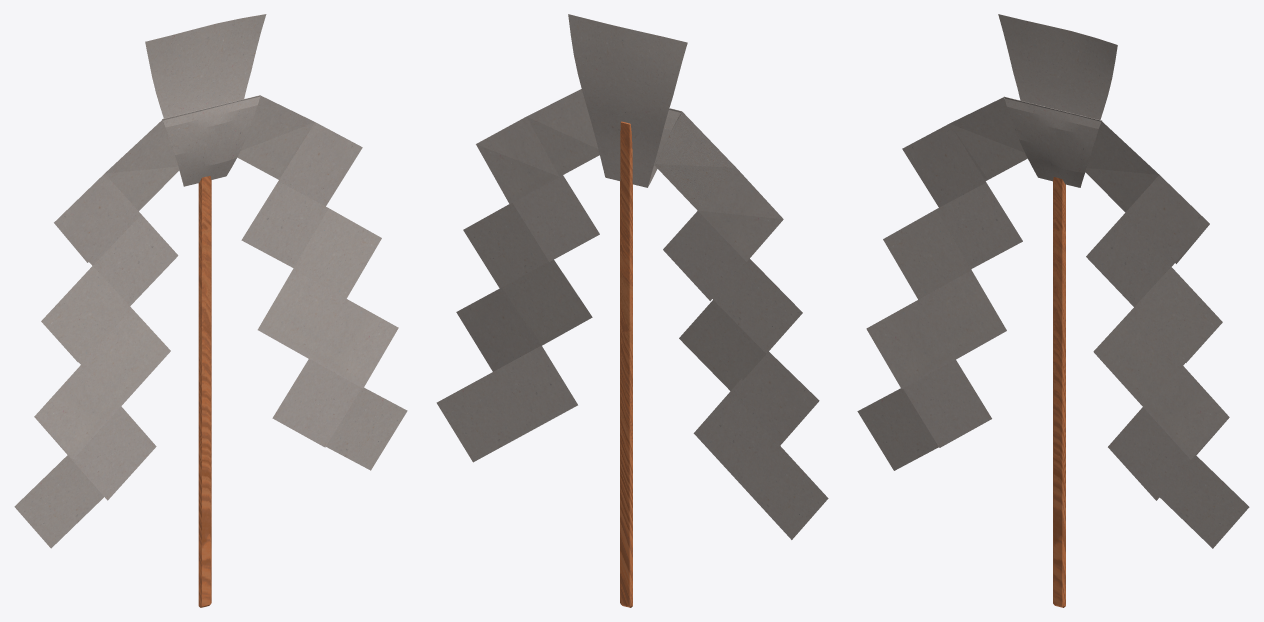
File: gohei_model_draft_1.glb
3 renders of one model, left to right at view 1: azimuth 30°, elevation 25°; view 2: azimuth 150°, elevation 25°; view 3: azimuth 330°, elevation 25°, orthographic.
Parts seen in each view (by area): view 1: Plane.003, Plane.002, Cube, Plane; view 2: Plane.003, Plane.002, Cube; view 3: Plane.003, Plane.002, Cube, Plane.
Boxes of the visible parts, <box> form: Plane.003: <box>14,96,407,548</box>; Plane.002: <box>145,14,266,185</box>; Cube: <box>198,176,211,607</box>; Plane: <box>162,95,259,186</box>; Plane.003: <box>436,89,828,539</box>; Plane.002: <box>568,14,687,187</box>; Cube: <box>620,121,632,607</box>; Plane.003: <box>857,97,1249,548</box>; Plane.002: <box>998,14,1117,119</box>; Cube: <box>1053,177,1065,607</box>; Plane: <box>1004,96,1101,187</box>.
Size of the model in its own units: 0.9722 by 1.37 by 0.0623.
Materials: 2 (2 with a texture image).
